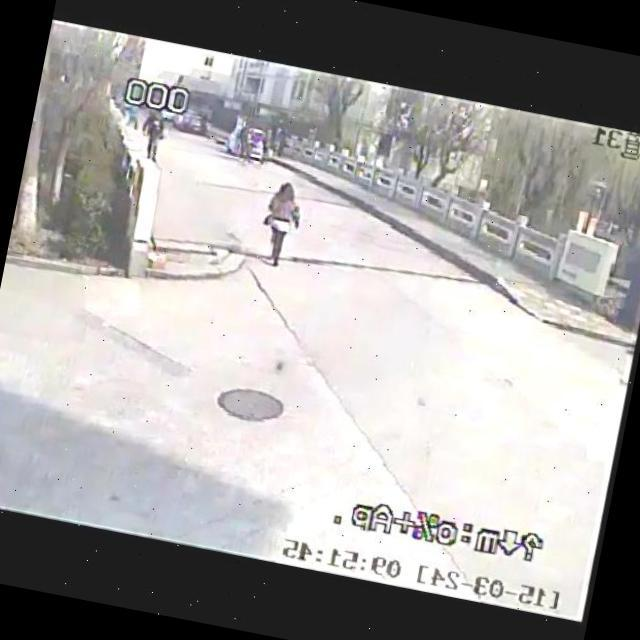person: (249, 174, 310, 275), (140, 114, 177, 170), (229, 120, 263, 176)
